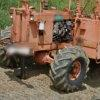Tractor: (10, 9, 96, 91)
